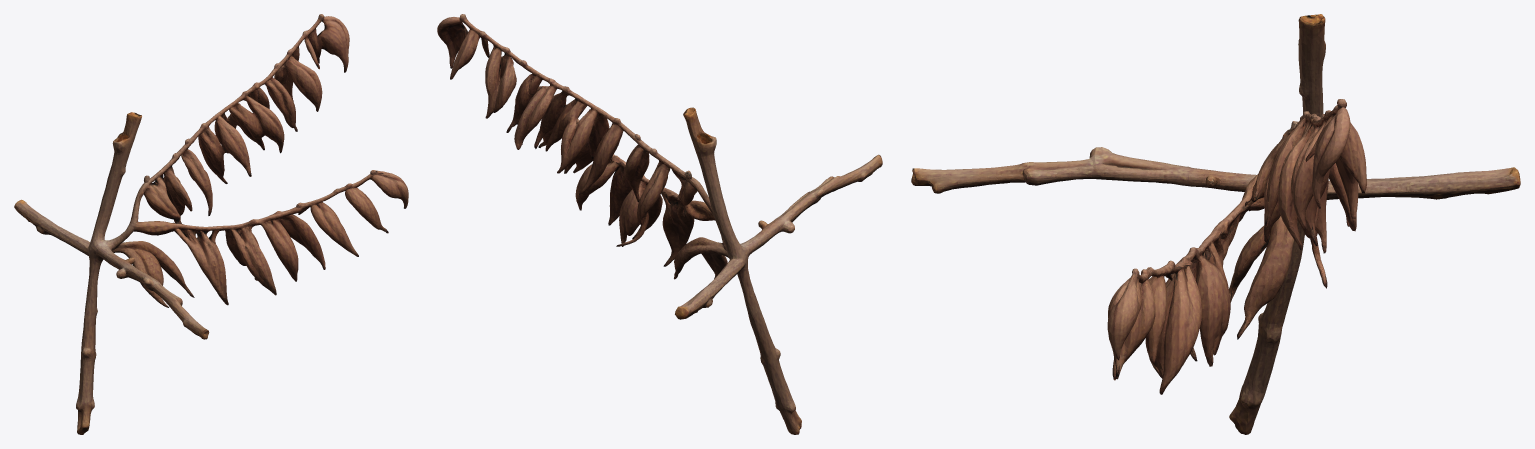
3 renders of one model, left to right at view 1: azimuth 30°, elevation 25°; view 2: azimuth 150°, elevation 25°; view 3: azimuth 270°, elevation 25°, orthographic. The views are drawn at different scales.
Parts seen in each view (by area): view 1: world; view 2: world; view 3: world.
Boxes of the visible parts, left/top/right/bottom form: world: left=14, top=14, right=408, bottom=434; world: left=437, top=14, right=882, bottom=434; world: left=911, top=14, right=1520, bottom=434.
Bounding box in the file's own units: 0.935 × 0.9986 × 1.
1 material, 1 textured.
